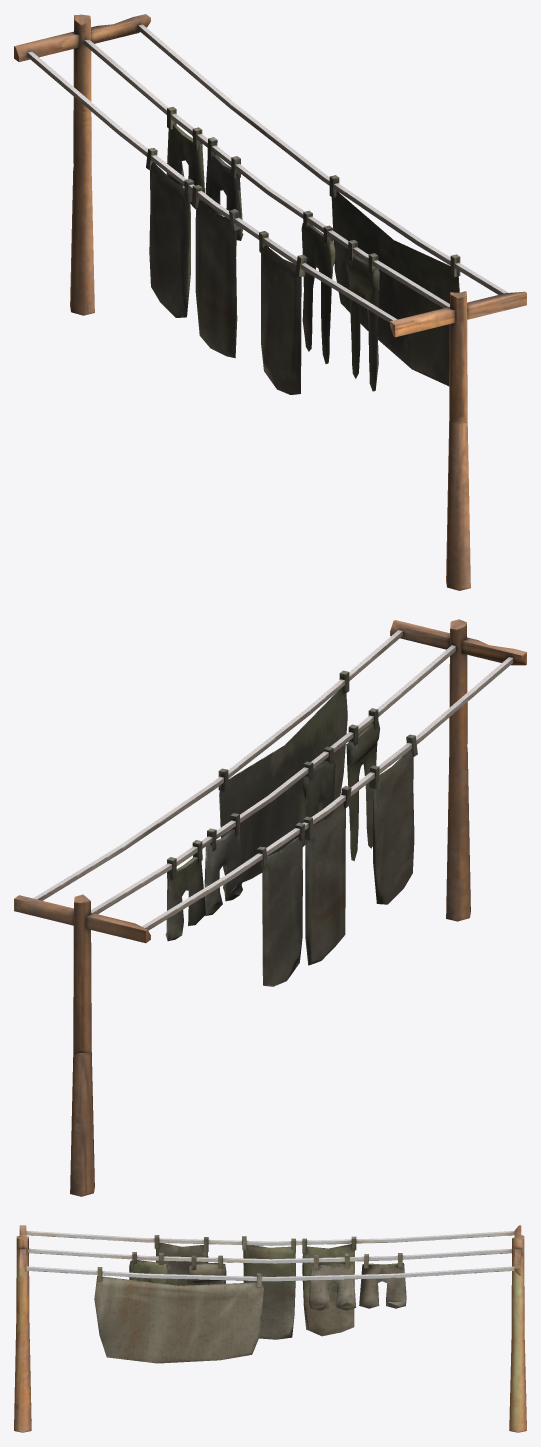
The model's file is WashingLine.fbx.
3 views of the same model, one above another, from view 1: azimuth 30°, elevation 25°; view 2: azimuth 150°, elevation 25°; view 3: azimuth 270°, elevation 25° (orthographic). The views are drawn at different scales.
Visible parts, largest first — view 1: WashingLine; view 2: WashingLine; view 3: WashingLine.
Boxes of the visible parts, <box> form: WashingLine: <box>14,14,526,590</box>; WashingLine: <box>14,619,526,1196</box>; WashingLine: <box>14,1225,526,1432</box>.
Size of the model in its own units: 42.27 by 89.33 by 216.
